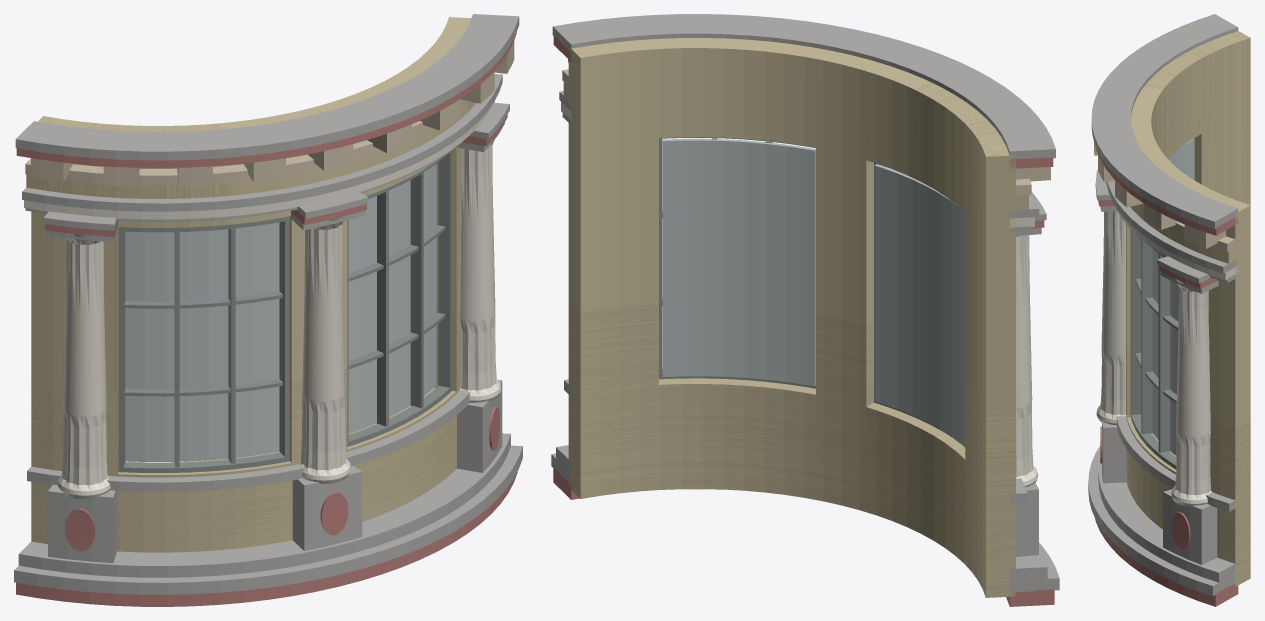
Rendered from xiangyang-525-fluted-round-bay-far.glb.
3 renders of one model, left to right at view 1: azimuth 30°, elevation 25°; view 2: azimuth 150°, elevation 25°; view 3: azimuth 270°, elevation 25°, orthographic. The views are drawn at different scales.
Visible parts, largest first — view 1: 襄阳南路525号住宅弧形窗廊与椭圆饰墩; view 2: 襄阳南路525号住宅弧形窗廊与椭圆饰墩; view 3: 襄阳南路525号住宅弧形窗廊与椭圆饰墩.
Boxes of the visible parts, bbox=[...] form: 襄阳南路525号住宅弧形窗廊与椭圆饰墩: bbox=[14, 14, 522, 606]; 襄阳南路525号住宅弧形窗廊与椭圆饰墩: bbox=[551, 14, 1059, 606]; 襄阳南路525号住宅弧形窗廊与椭圆饰墩: bbox=[1088, 14, 1250, 606].
Size of the model in its own units: 3.64 by 3.12 by 1.19.
Materials: 7 (1 with a texture image).
